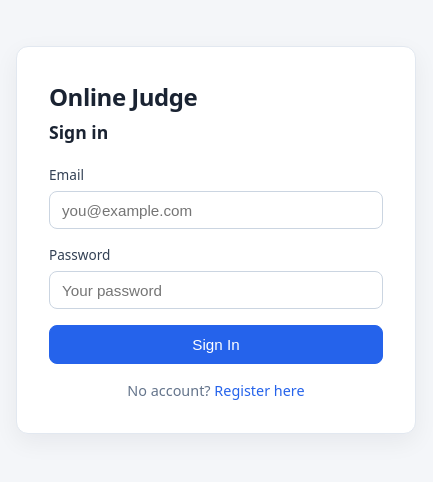
Test case: LoginPage › shows error when email is empty
Click the button "Sign In" at (216, 345), box [49, 326, 383, 364]
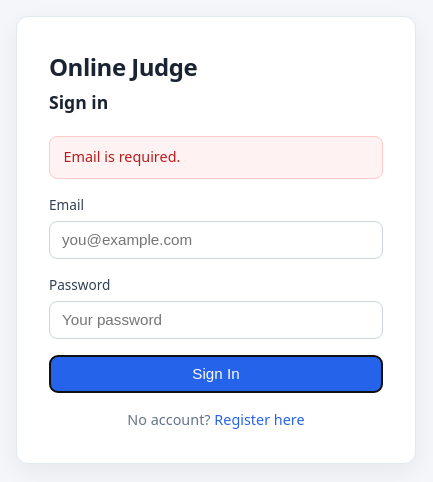
Expected: the text "Email is required." is shown, [49, 136, 383, 178]
